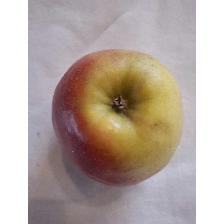Apfel: (51, 46, 186, 190)
